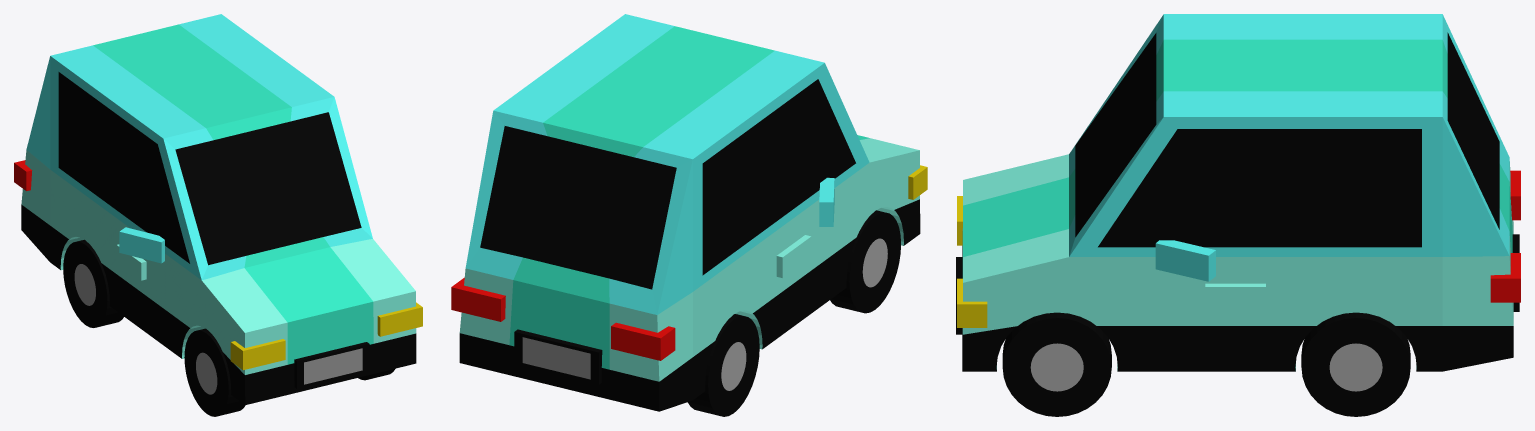
Rendered from Mobil_Satu_Biru.fbx.
3 renders of one model, left to right at view 1: azimuth 30°, elevation 25°; view 2: azimuth 150°, elevation 25°; view 3: azimuth 270°, elevation 25°, orthographic. The views are drawn at different scales.
Visible parts, largest first — view 1: Mobil5; view 2: Mobil5; view 3: Mobil5.
Boxes of the visible parts, x1,y1,x2,y2 form: Mobil5: (14, 14, 422, 416); Mobil5: (451, 14, 927, 416); Mobil5: (956, 14, 1520, 416).
Bounding box in the file's own units: 522 × 546 × 931.
